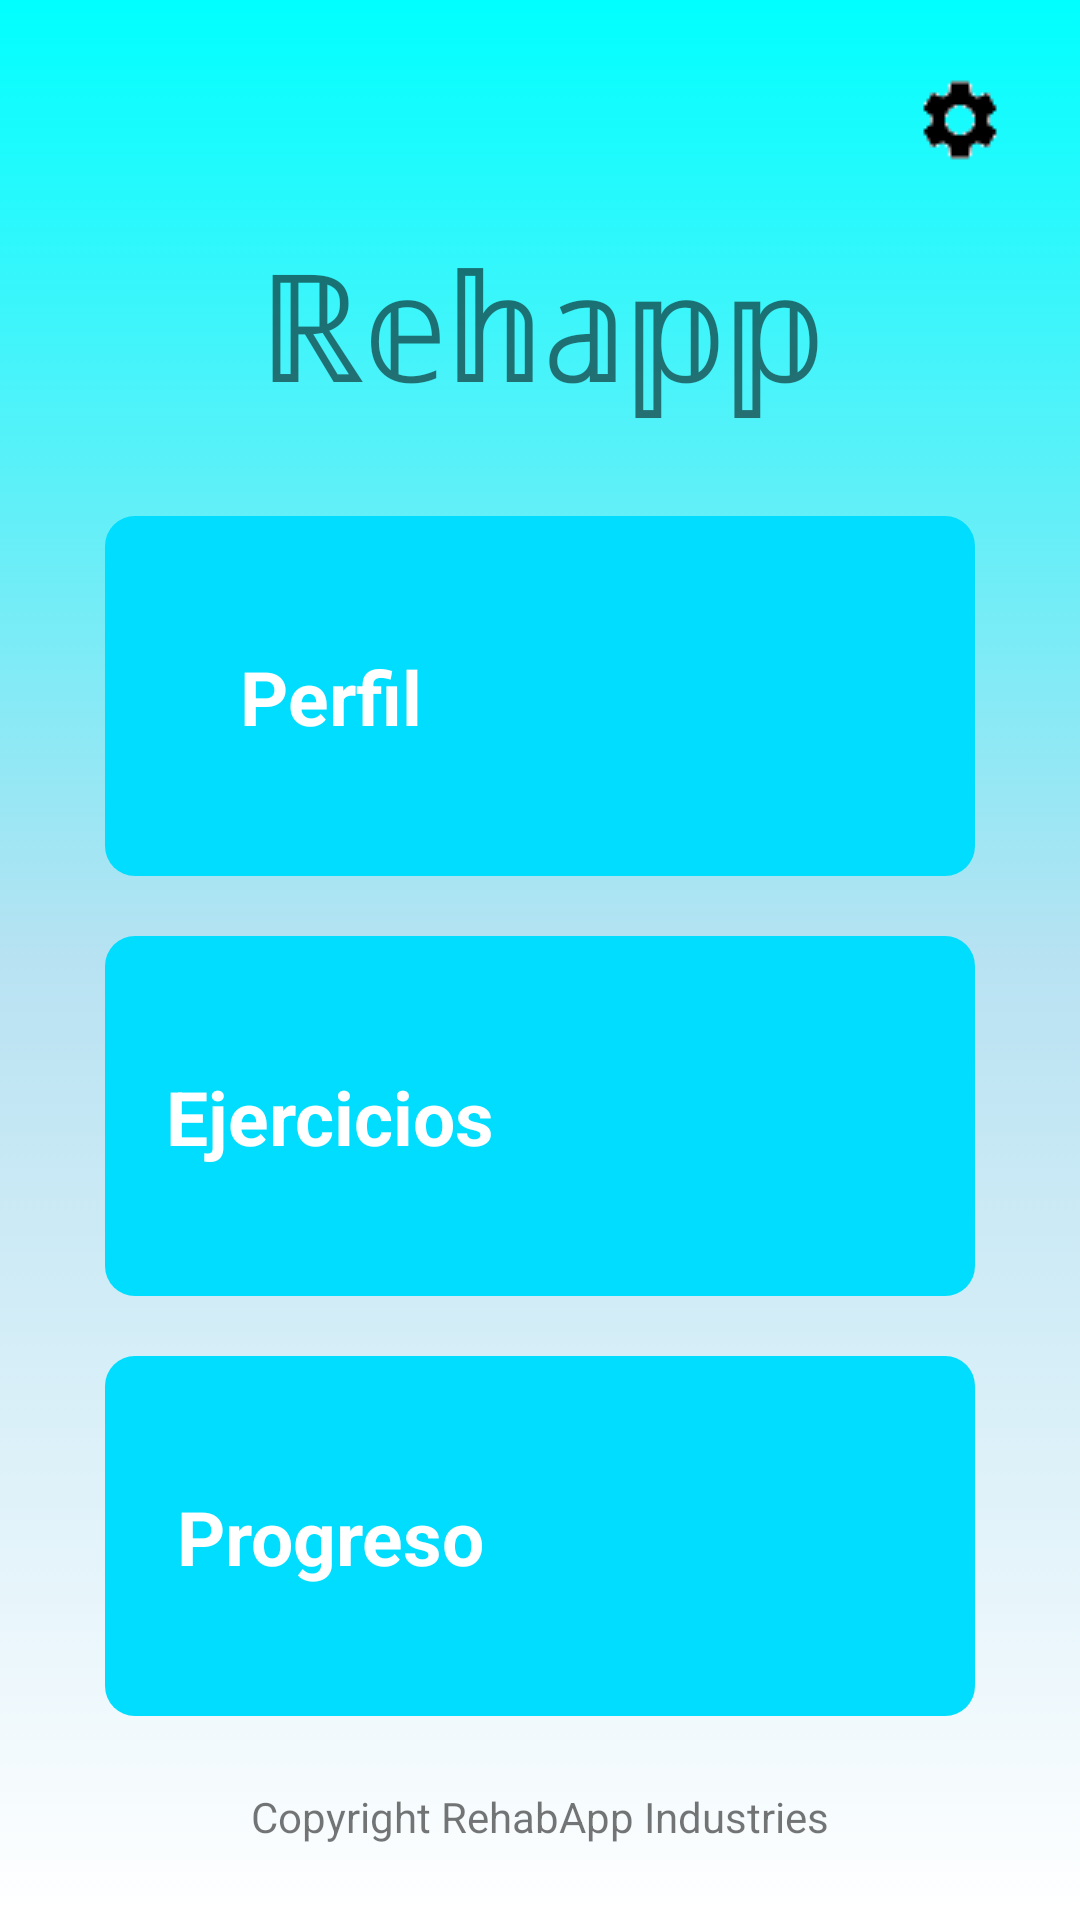

Icons on this 1080*1920 Android screen, each with its box as BBox(x1, y1, x2, y2):
settings: BBox(923, 80, 997, 160)
